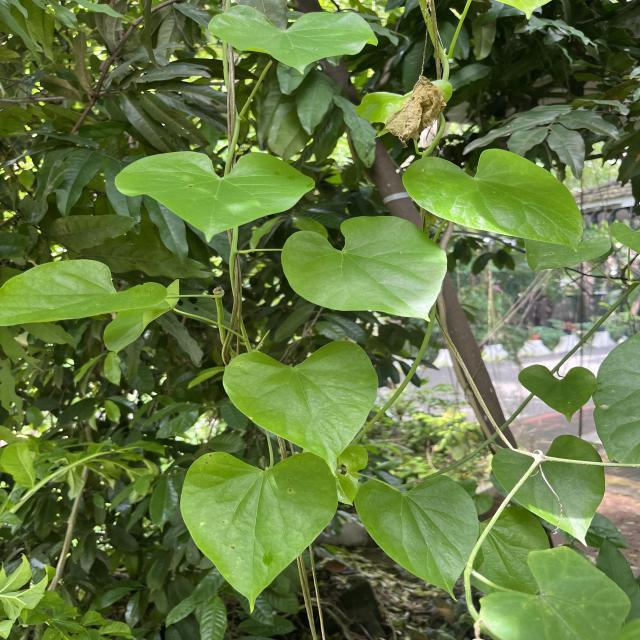Tinospora cordifolia: (177, 449, 340, 616), (221, 338, 380, 476), (400, 147, 585, 256), (111, 148, 318, 244), (278, 213, 448, 324), (352, 473, 484, 604), (205, 2, 381, 77)
